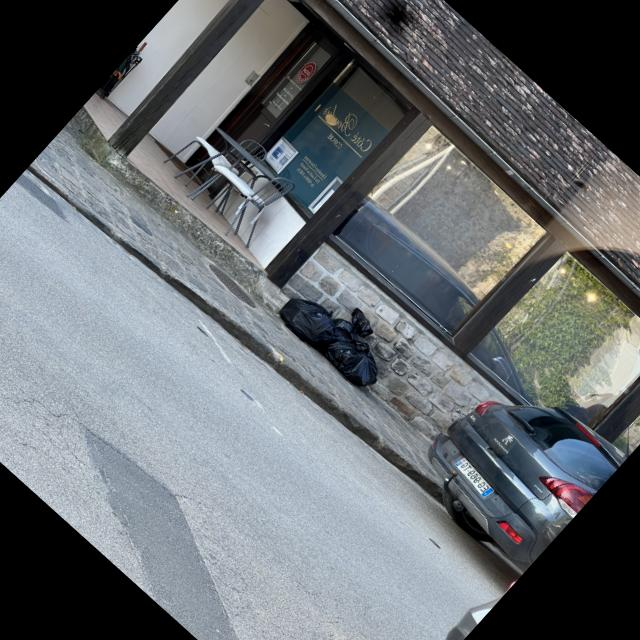Garbage bag: (278, 299, 376, 387)
